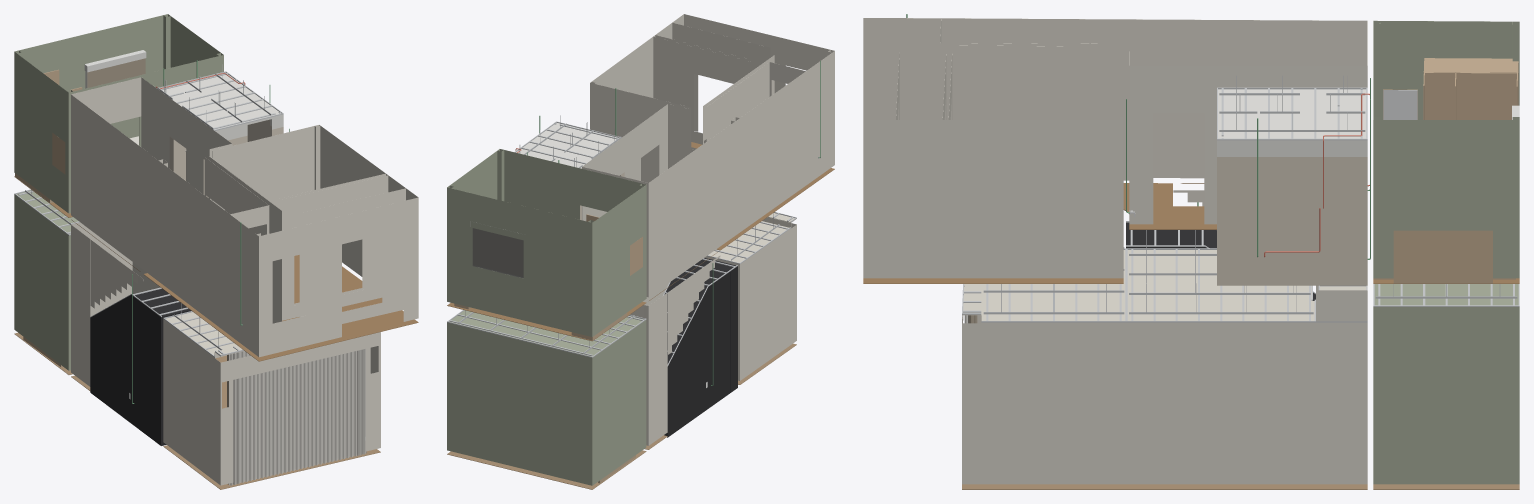
File: hoan_thien.glb
3 views of the same model, side by side, from view 1: azimuth 30°, elevation 25°; view 2: azimuth 150°, elevation 25°; view 3: azimuth 270°, elevation 25° (orthographic). The views are drawn at different scales.
Parts seen in each view (by area): view 1: Hoàn thiện — mặt tường Cầu thang lên T2 (×2), Hoàn thiện — mặt tường Sảnh trước tầng 2, Hoàn thiện — mặt tường Phòng ngủ master, Hoàn thiện — mặt tường Phòng làm việc (×2), Hoàn thiện — rèm voan O03 (lớp mỏng, kéo kín), Hoàn thiện — rèm voan O03 (lớp mỏng, kéo kín) · kín cả hai, Hoàn thiện — mặt tường Phòng khách, Hoàn thiện — ốp tường WC nhỏ dưới gầm thang, Hoàn thiện — mặt tường Phòng ngủ phụ (người già / giúp việc , Hoàn thiện — trần WC master, Hoàn thiện — sàn Sảnh trước tầng 2, Hoàn thiện — sàn Phòng làm việc (×2) (+11 smaller); view 2: Hoàn thiện — mặt tường Cầu thang lên T2 (×2), Hoàn thiện — mặt tường Phòng ngủ master, Hoàn thiện — mặt tường Phòng ngủ phụ (người già / giúp việc , Hoàn thiện — mặt tường Phòng làm việc (×2), Hoàn thiện — mặt tường Sảnh trước tầng 2, Hoàn thiện — ốp tường WC nhỏ dưới gầm thang, Hoàn thiện — mặt tường Phòng khách, Hoàn thiện — trần Phòng ngủ phụ (người già / giúp việc dự ph, Hoàn thiện — trần WC master, Rèm cuốn O10 — lớp lưới chống nắng (hạ), Hoàn thiện — trần Phòng khách, Khung trần Phòng ngủ phụ (người già / giúp việc dự phòng) —  (×2) (+4 smaller); view 3: Hoàn thiện — mặt tường Phòng làm việc (×2), Hoàn thiện — mặt tường Cầu thang lên T2 (×2), Hoàn thiện — mặt tường Bếp + bàn ăn, Hoàn thiện — mặt tường Phòng khách, Hoàn thiện — mặt tường Phòng ngủ master, Hoàn thiện — mặt tường Phòng ngủ phụ (người già / giúp việc , Hoàn thiện — ốp tường WC master, Hoàn thiện — mặt tường Sảnh trước tầng 2, Hoàn thiện — trần Bếp + bàn ăn, Hoàn thiện — trần WC master, Hoàn thiện — trần Phòng khách, Giường 1m6 (nệm 1600×2000, khung phủ bì 1700×2100) — đầu giư (+20 smaller).
Part boxes in pixels (x1,y1,x2,y2): Hoàn thiện — mặt tường Cầu thang lên T2 (×2): [71, 77, 269, 386]; Hoàn thiện — mặt tường Sảnh trước tầng 2: [230, 175, 418, 357]; Hoàn thiện — mặt tường Phòng ngủ master: [14, 14, 223, 213]; Hoàn thiện — mặt tường Phòng làm việc (×2): [208, 125, 405, 323]; Hoàn thiện — rèm voan O03 (lớp mỏng, kéo kín): [229, 349, 366, 485]; Hoàn thiện — rèm voan O03 (lớp mỏng, kéo kín) · kín cả hai: [229, 349, 366, 484]; Hoàn thiện — mặt tường Phòng khách: [163, 319, 380, 485]; Hoàn thiện — ốp tường WC nhỏ dưới gầm thang: [90, 295, 191, 445]; Hoàn thiện — mặt tường Phòng ngủ phụ (người già / giúp việc : [14, 195, 70, 370]; Hoàn thiện — trần WC master: [162, 72, 283, 131]; Hoàn thiện — sàn Sảnh trước tầng 2: [215, 307, 418, 361]; Hoàn thiện — sàn Phòng làm việc (×2): [282, 255, 403, 327]; Hoàn thiện — mặt tường Cầu thang lên T2 (×2): [582, 62, 805, 445]; Hoàn thiện — mặt tường Phòng ngủ master: [447, 149, 646, 336]; Hoàn thiện — mặt tường Phòng ngủ phụ (người già / giúp việc : [447, 320, 646, 485]; Hoàn thiện — mặt tường Phòng làm việc (×2): [590, 22, 774, 182]; Hoàn thiện — mặt tường Sảnh trước tầng 2: [655, 14, 834, 195]; Hoàn thiện — ốp tường WC nhỏ dưới gầm thang: [664, 266, 737, 437]; Hoàn thiện — mặt tường Phòng khách: [704, 223, 796, 380]; Hoàn thiện — trần Phòng ngủ phụ (người già / giúp việc dự ph: [447, 310, 646, 358]; Hoàn thiện — trần WC master: [516, 122, 618, 168]; Rèm cuốn O10 — lớp lưới chống nắng (hạ): [472, 228, 523, 278]; Hoàn thiện — trần Phòng khách: [706, 213, 796, 264]; Khung trần Phòng ngủ phụ (người già / giúp việc dự phòng) —  (×2): [447, 310, 646, 357]; Hoàn thiện — mặt tường Phòng làm việc (×2): [896, 45, 1123, 278]; Hoàn thiện — mặt tường Cầu thang lên T2 (×2): [940, 18, 1367, 484]; Hoàn thiện — mặt tường Bếp + bàn ăn: [1126, 323, 1315, 484]; Hoàn thiện — mặt tường Phòng khách: [962, 315, 1126, 484]; Hoàn thiện — mặt tường Phòng ngủ master: [1373, 20, 1519, 278]; Hoàn thiện — mặt tường Phòng ngủ phụ (người già / giúp việc : [1373, 307, 1519, 484]; Hoàn thiện — ốp tường WC master: [1217, 157, 1367, 284]; Hoàn thiện — mặt tường Sảnh trước tầng 2: [863, 18, 981, 278]; Hoàn thiện — trần Bếp + bàn ăn: [1127, 250, 1315, 323]; Hoàn thiện — trần WC master: [1217, 89, 1367, 140]; Hoàn thiện — trần Phòng khách: [962, 250, 1126, 323]; Giường 1m6 (nệm 1600×2000, khung phủ bì 1700×2100) — đầu giư: [1393, 230, 1492, 283].
Bounding box in the file's own units: 4.26 × 7.2 × 11.27.
